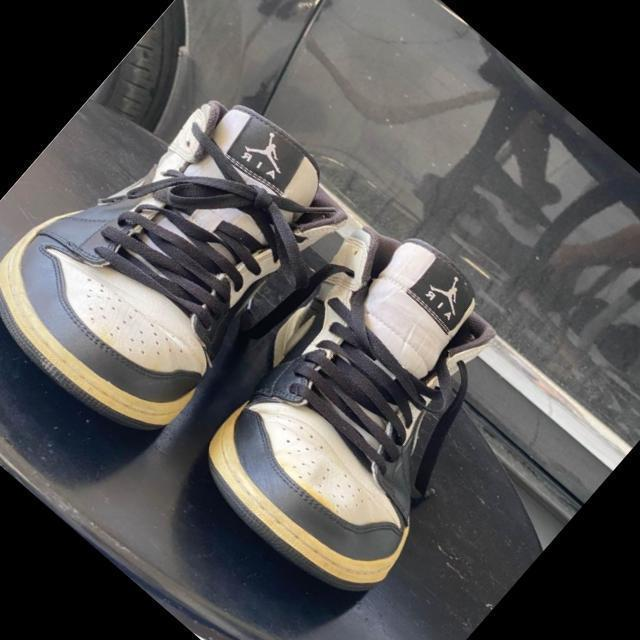nike fake jordan 1: (161, 195, 579, 621), (0, 37, 374, 466)
